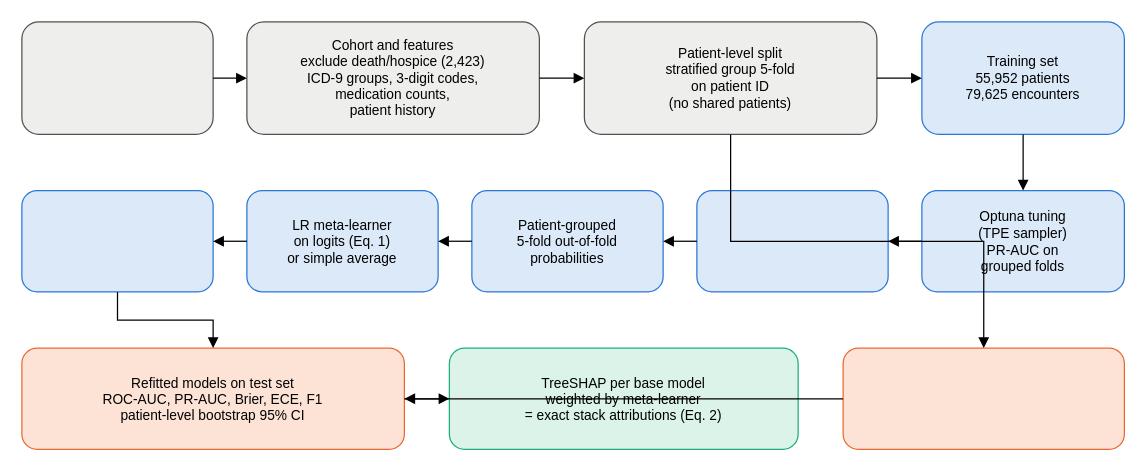
Image size: 1146x471. Some labels were removed from this diagram. The centre of each missing label's shape, as x and y in pixels:
Base learners XGBoost LightGBM CatBoost: point 792,240
Calibration (none/Platt/isotonic), thresholds (max-F1, recall 0.70): point 117,240
Diabetes 130-US Hospitals dataset 101,766 encounters 71,518 patients: point 117,77
Test set (used once) 14,038 patients 19,718 encounters: point 983,398
